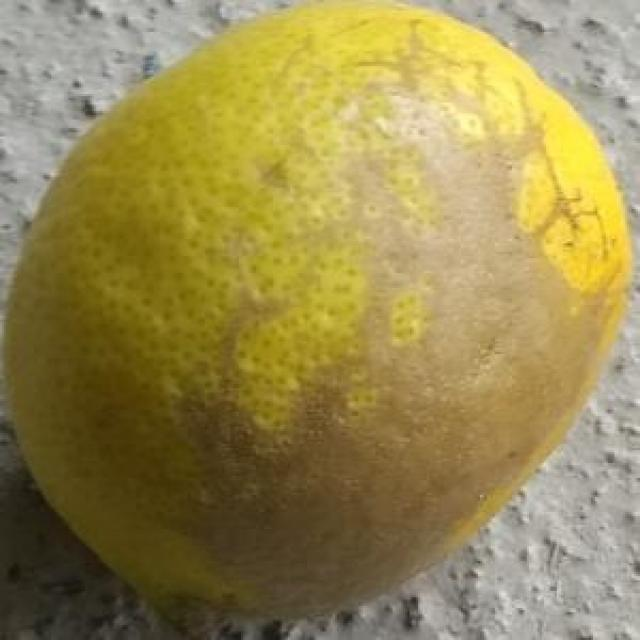lemon: (4, 4, 635, 622)
